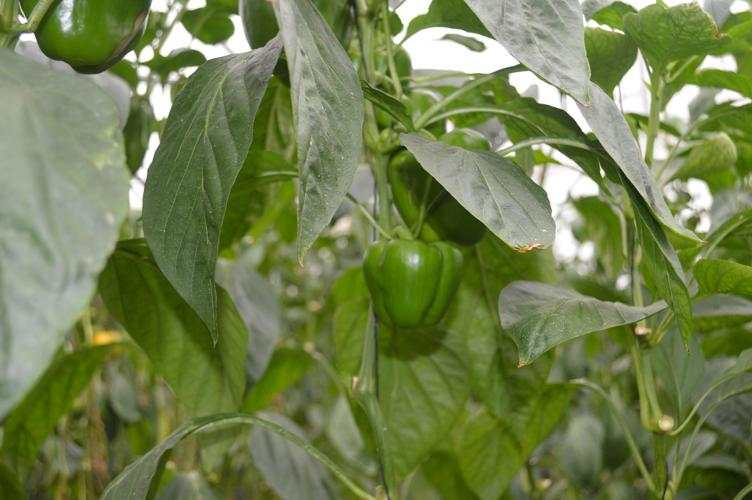BellPepper: (355, 222, 471, 343), (390, 131, 501, 246)
